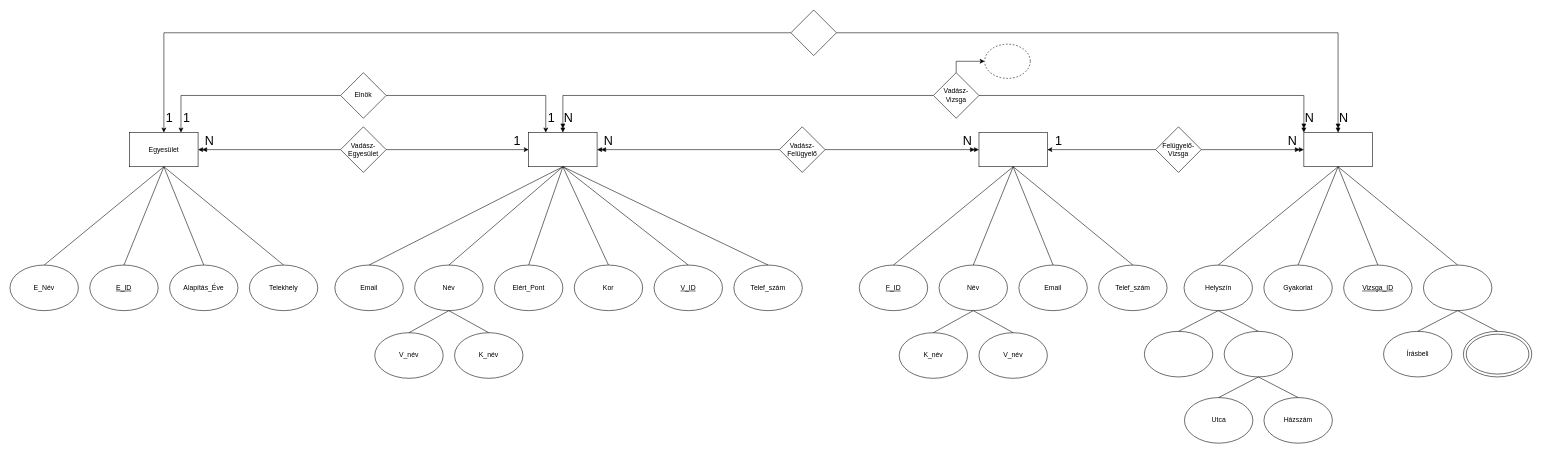
Some shapes in this 1542 by 453 pixel diagram are drawn without their labels. The shapes that lost their labels are listed below. From the top down, each one's centre as x and y in pixels, then its label:
point (813, 32): Egyesület-Vizsga
point (1007, 61): Dátum
point (562, 149): Vadász
point (1012, 149): Felügyelő
point (1337, 149): Vizsga
point (1457, 287): Elmélet
point (1178, 354): I_szám
point (1258, 354): Település
point (1497, 354): Szóbeli_Kérdés
